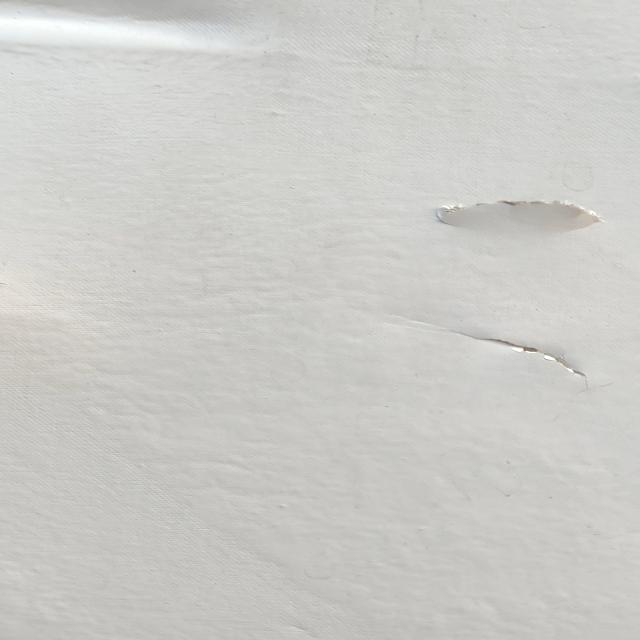Dents or Deformation: (1, 1, 351, 64)
Scratches: (420, 185, 628, 243), (434, 324, 599, 395)
